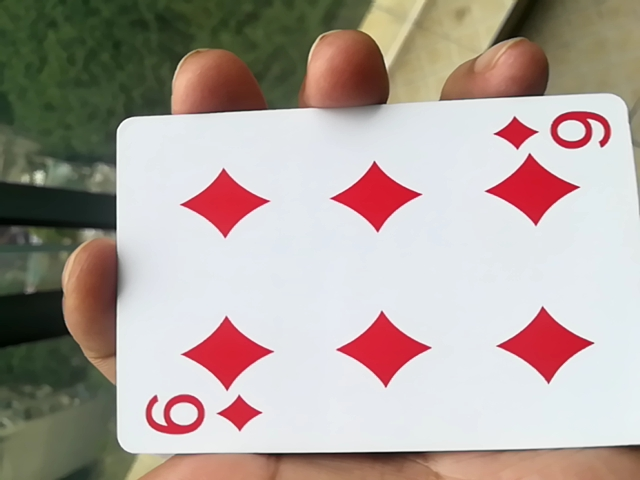fk 6: (91, 112, 637, 471)
